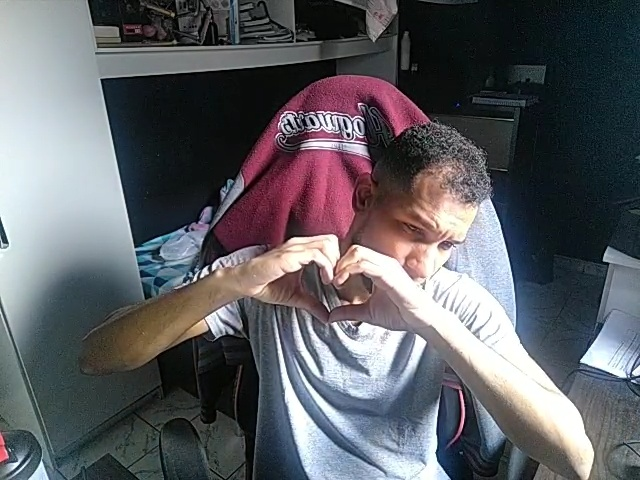eu_te_amo: (244, 232, 419, 338)
